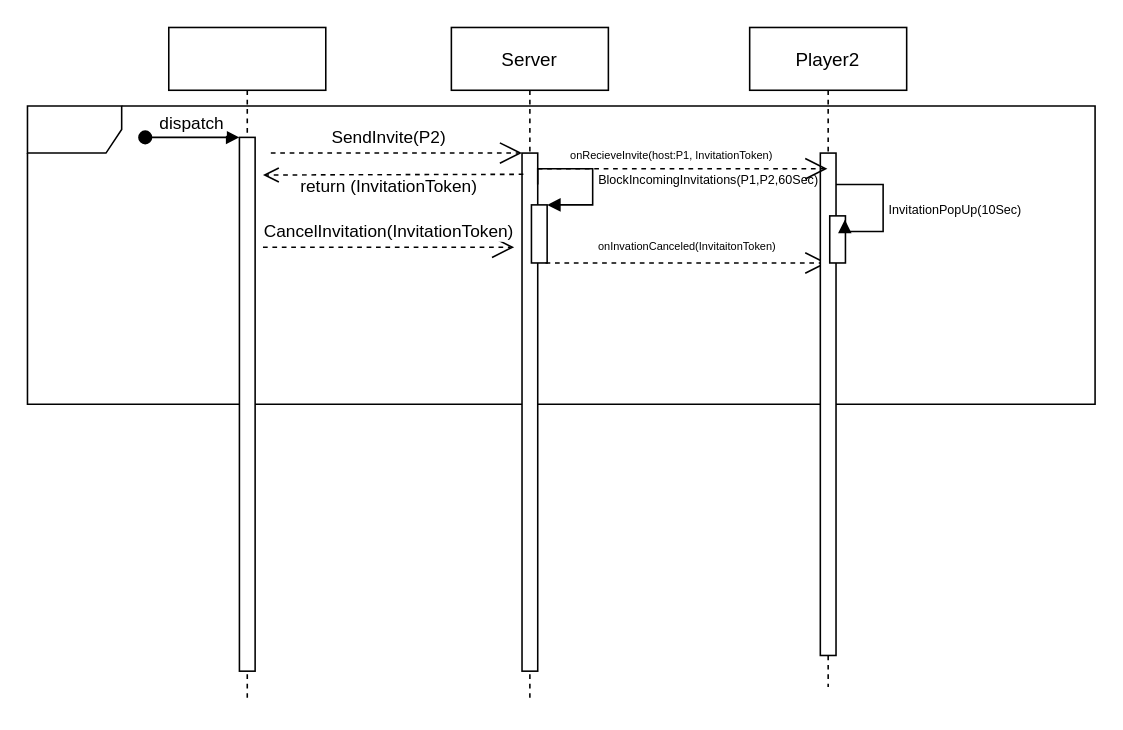
Some shapes in this 1123 by 730 pixel diagram are drawn without their labels. Each missing label, with the box of its shape:
Invitation Canceled Before Player2 accepted: (26, 104, 1095, 404)
Player1: (167, 26, 326, 703)
